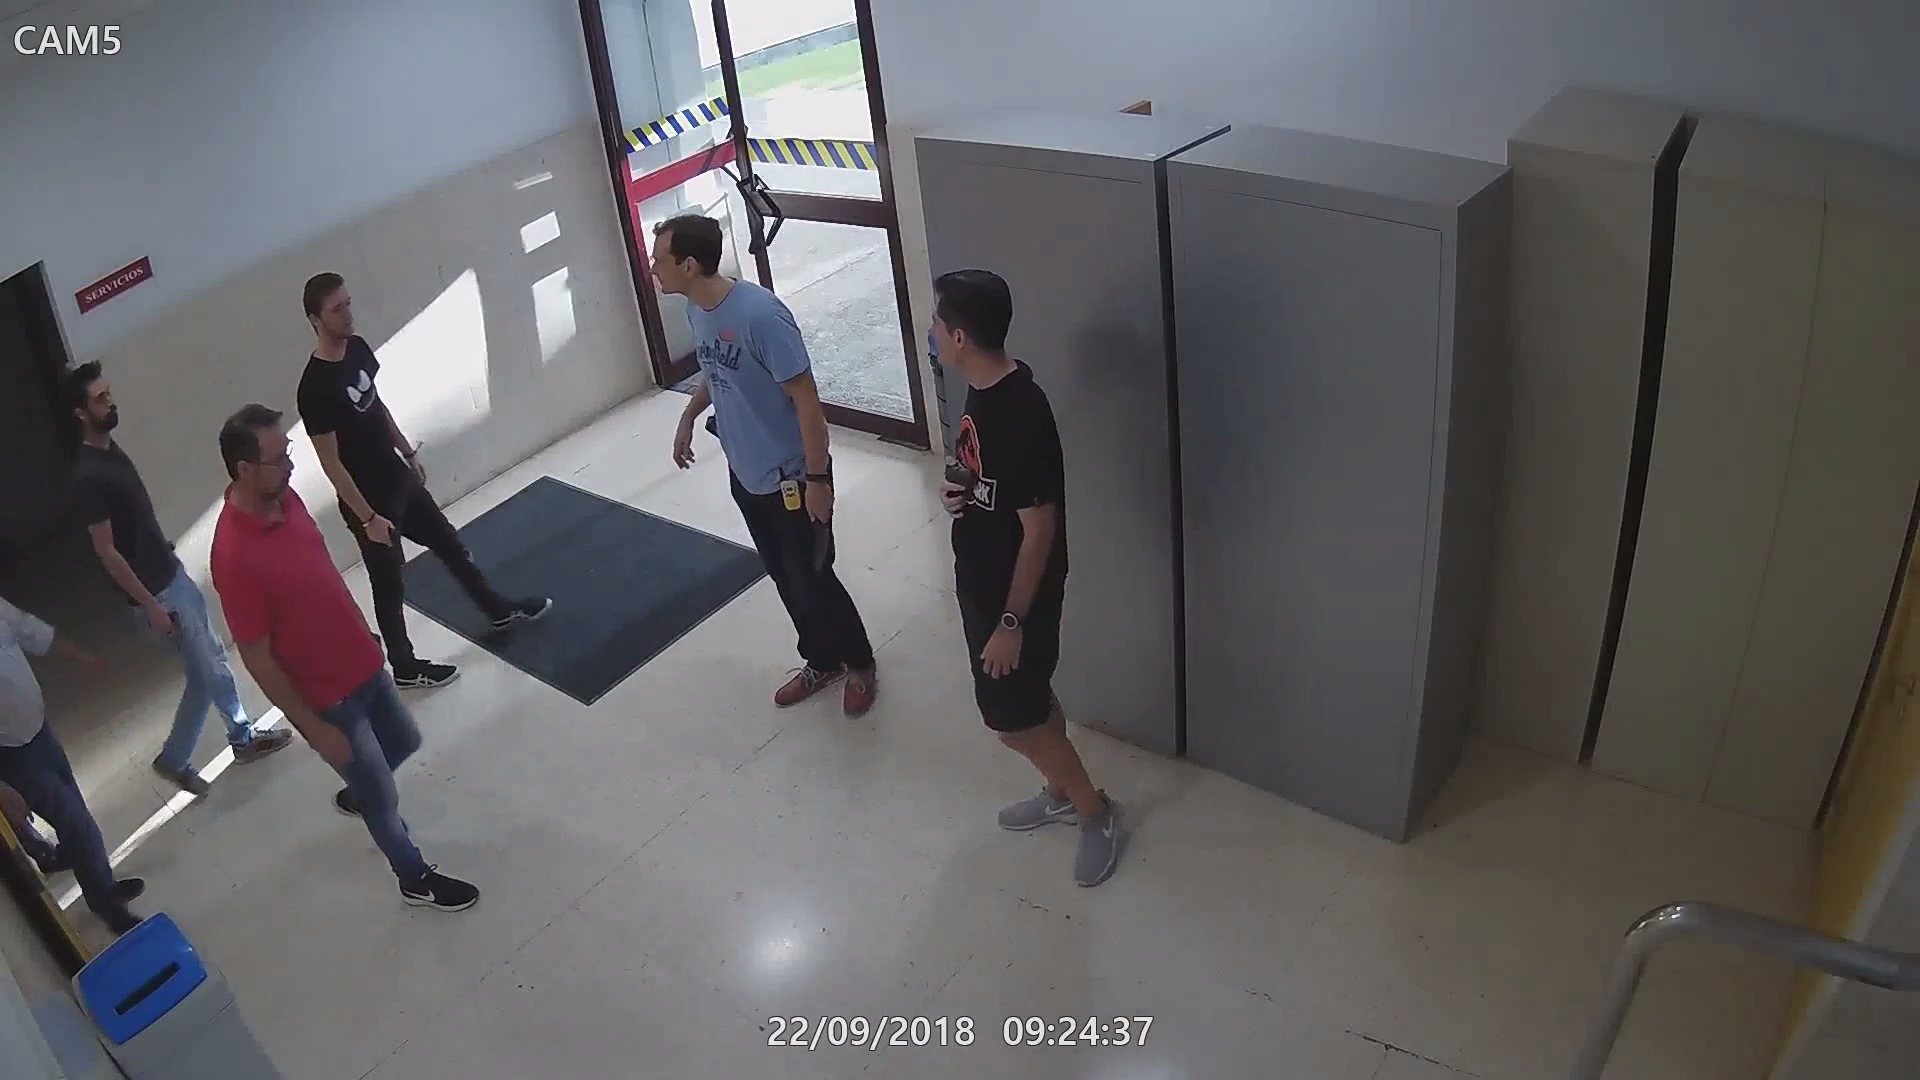Handgun: (364, 516, 411, 607), (141, 608, 189, 663), (940, 465, 982, 527)
Knife: (806, 495, 835, 578)
